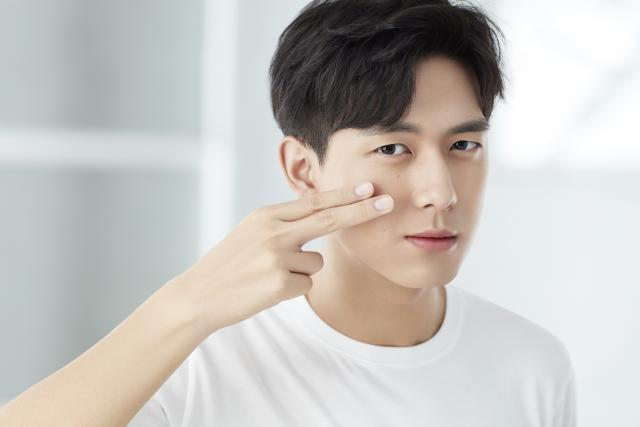person: (257, 1, 526, 393)
